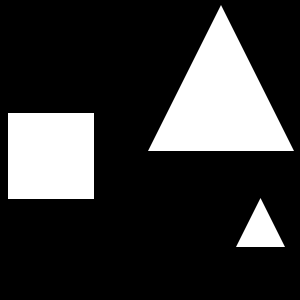circle: (8, 113, 94, 199)
triangle: (148, 5, 294, 151), (236, 198, 285, 247)
